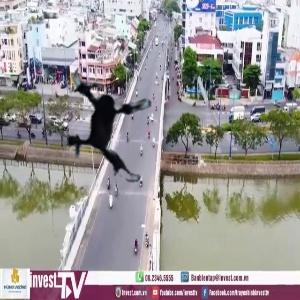drone: (43, 51, 187, 195)
